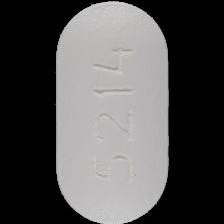0093-5214: (0, 0, 224, 224)
